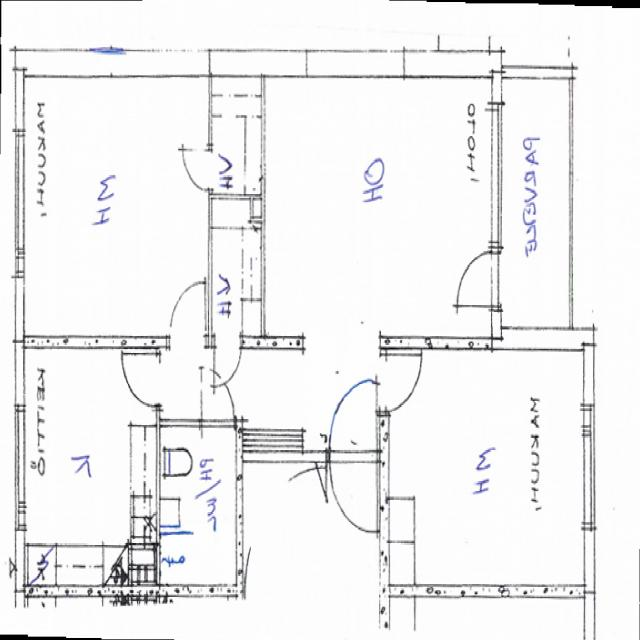door: (331, 451, 376, 533), (331, 380, 376, 461), (381, 354, 427, 412), (456, 253, 502, 308), (171, 280, 206, 348), (122, 353, 160, 405), (202, 368, 235, 427), (215, 336, 241, 390), (182, 151, 213, 191)
